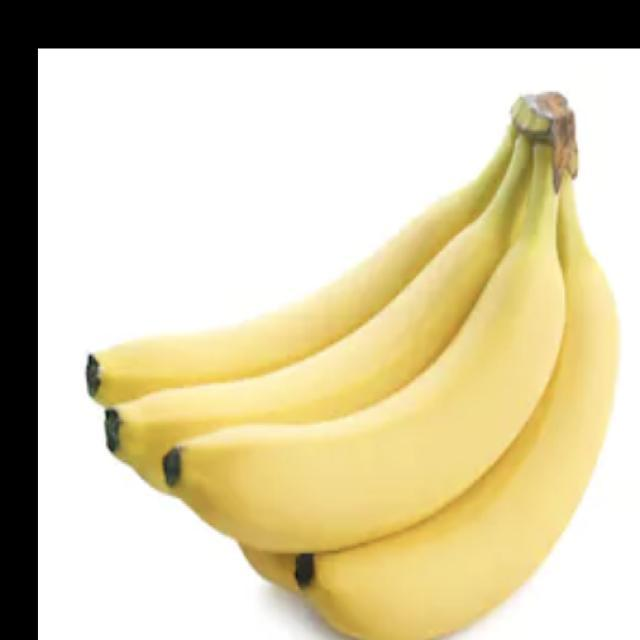Banana: (85, 90, 620, 639)
